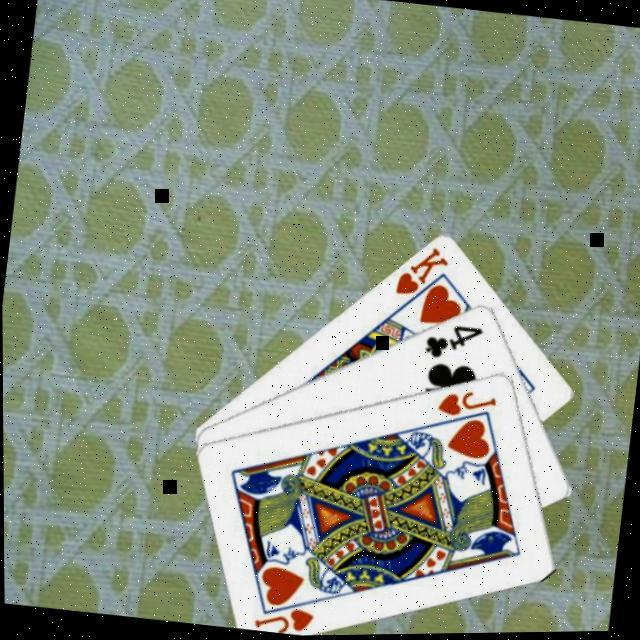4C: (418, 317, 485, 366)
JH: (432, 382, 499, 423), (248, 598, 316, 638)
KH: (389, 238, 452, 302)
